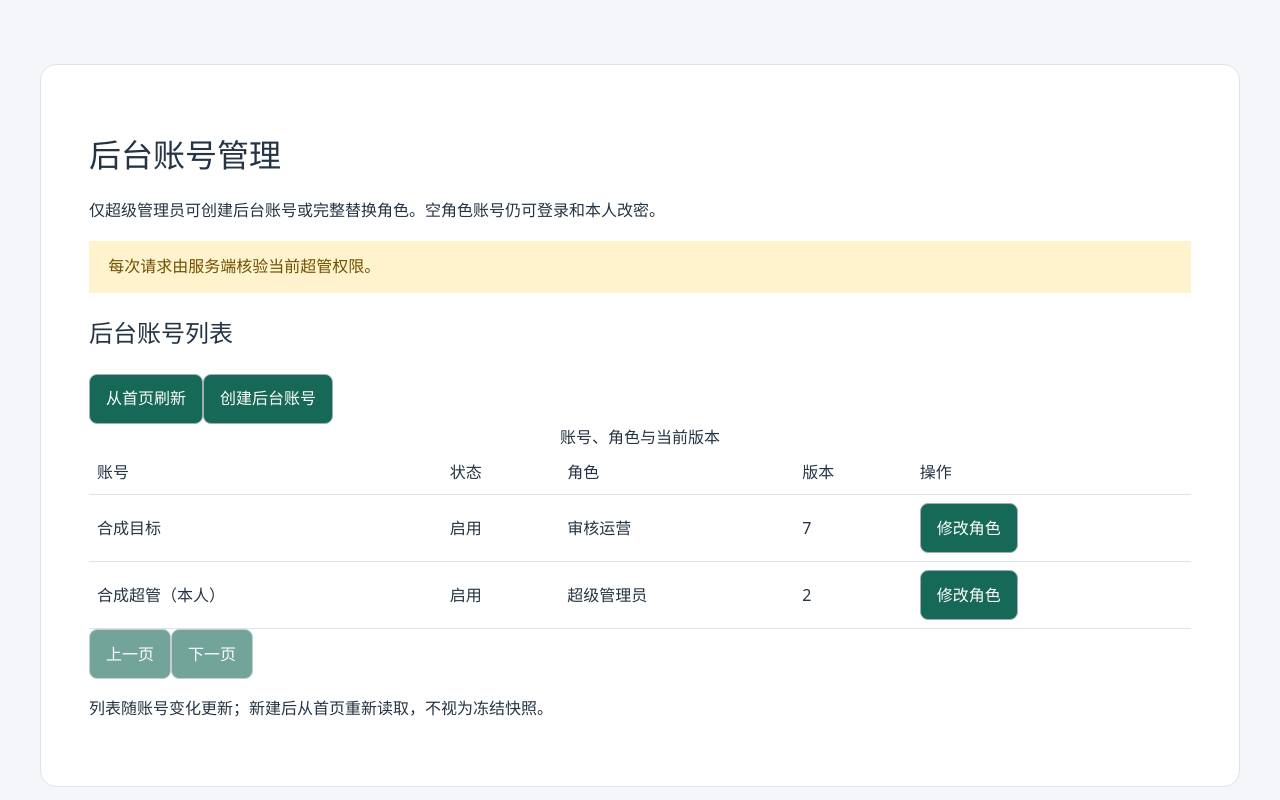
Test: T010 REQ-018/019 后台账号管理页面 › 创建必须填写理由并二次确认，不提供口令输入，允许空角色
Click the button "创建后台账号". click: {"x": 268, "y": 399}
box: left=203, top=374, right=333, bottom=424
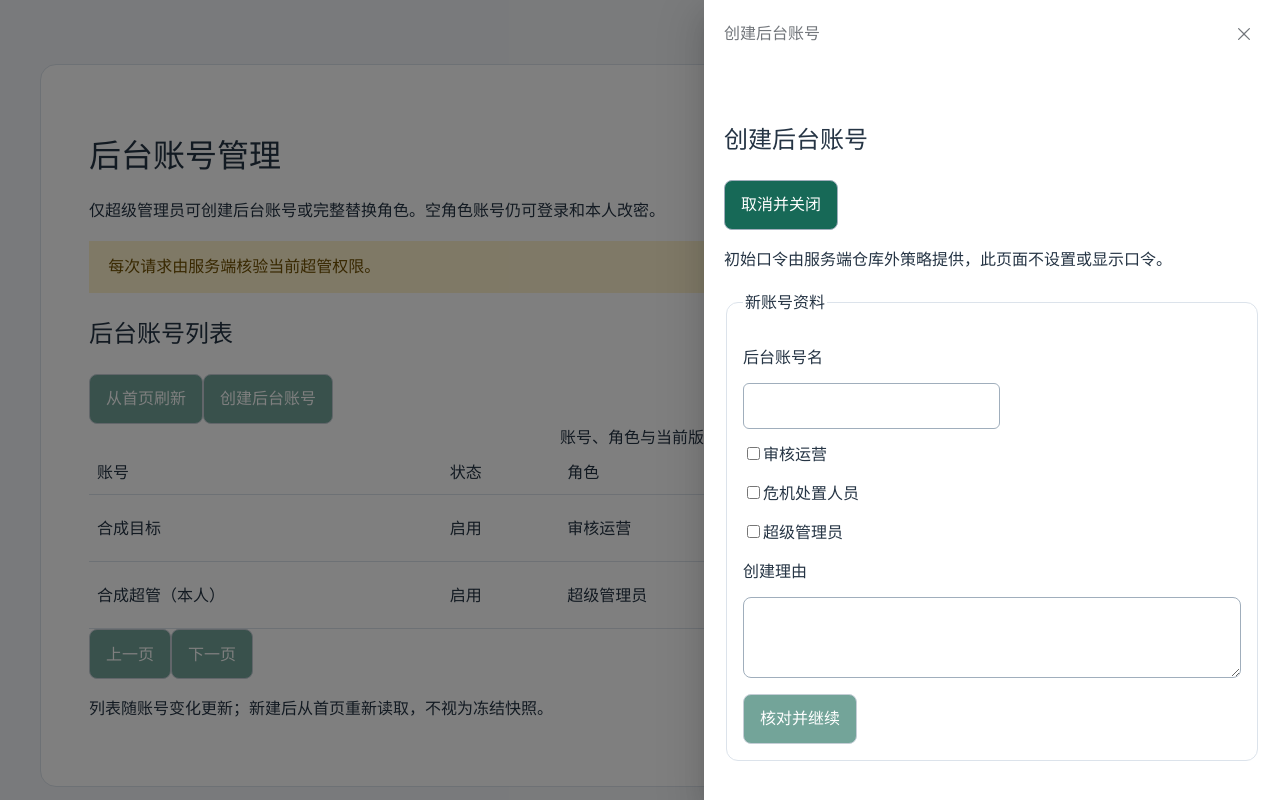
Now the button "核对并继续" is disabled, box left=743, top=694, right=857, bottom=744
Type "合成新账号" into the field with id "account-login". click: {"x": 872, "y": 406}
box: left=743, top=383, right=1000, bottom=428
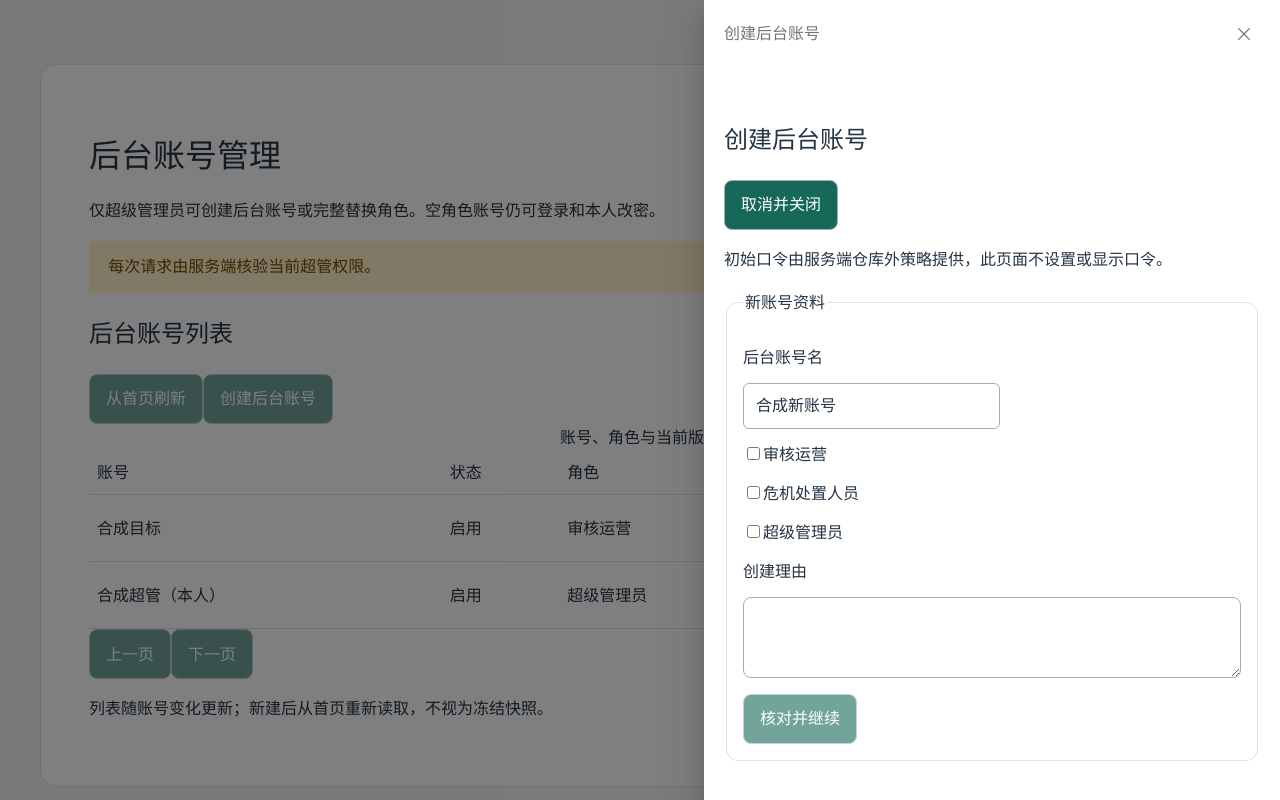
Type "合成创建理由" into the text box with id "account-reason". click: {"x": 992, "y": 638}
box: left=743, top=597, right=1241, bottom=678
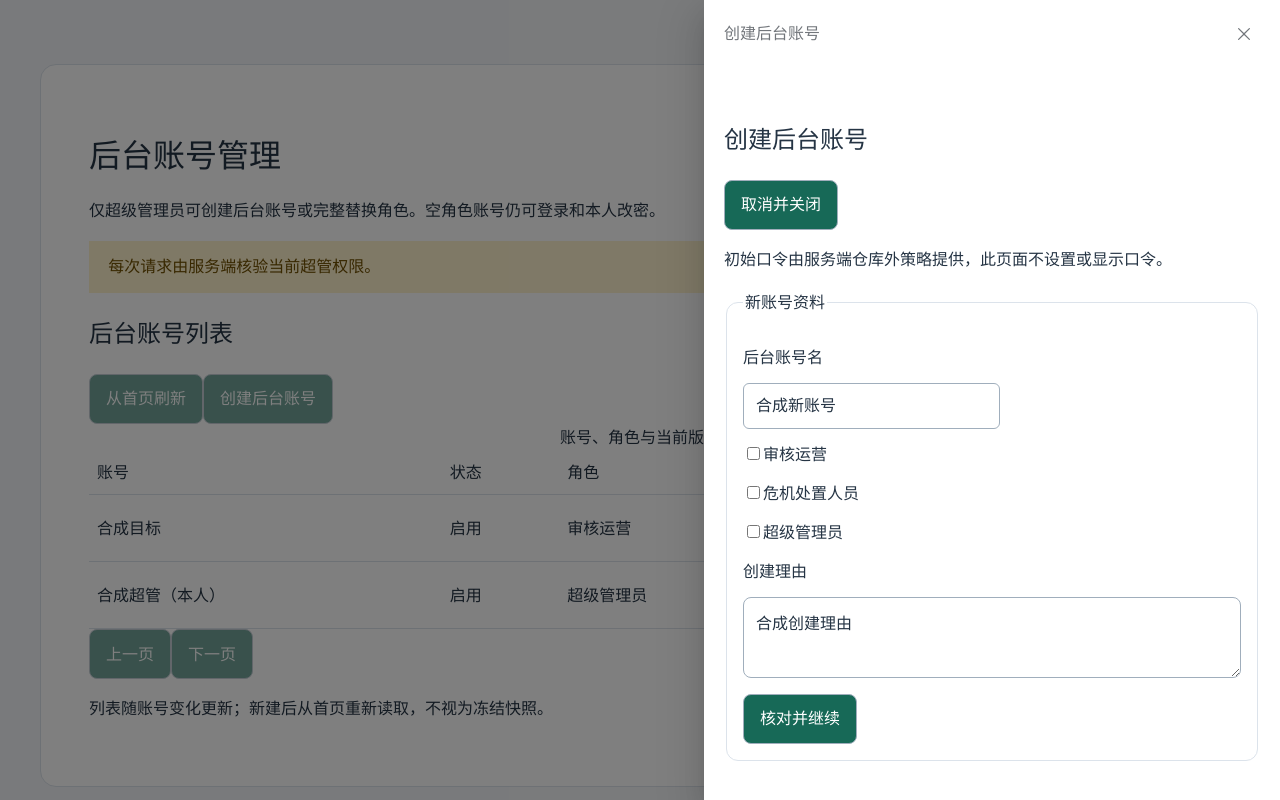
Submit the form, box left=724, top=289, right=1260, bottom=761
(page scrolled)
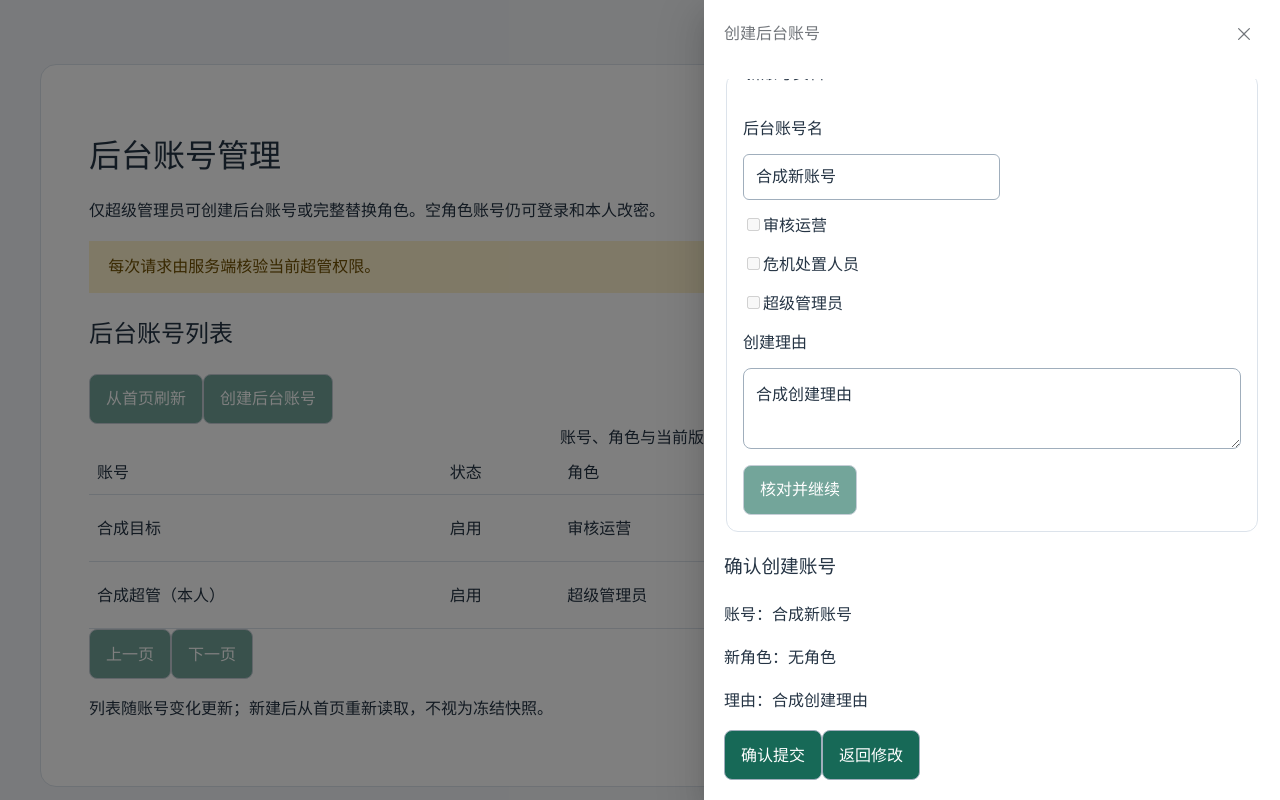
Now the element named "确认账号操作" shows "无角色", box left=724, top=646, right=836, bottom=668
Click the button "确认提交". click: {"x": 773, "y": 755}
box: left=724, top=730, right=822, bottom=780
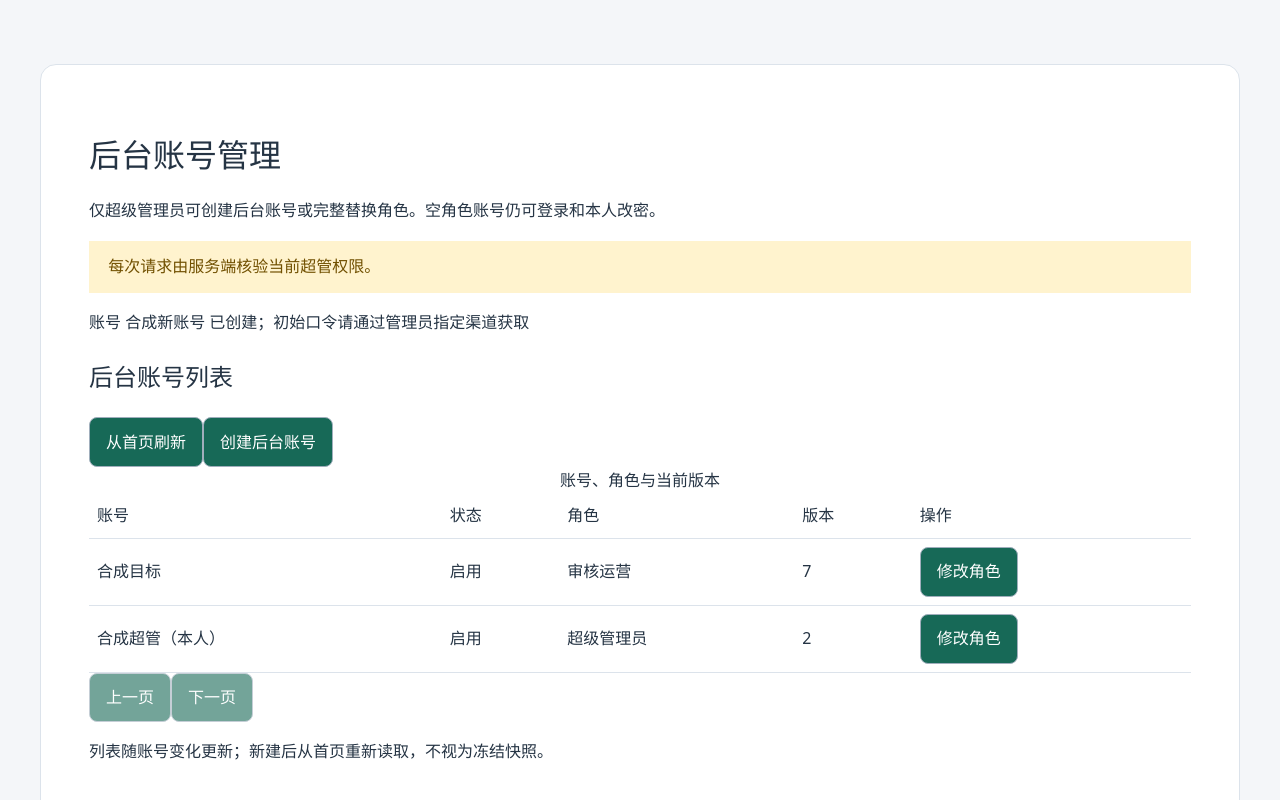
Now the text "已创建；初始口令请通过管理员指定渠道获取" is shown, box left=89, top=311, right=529, bottom=333
